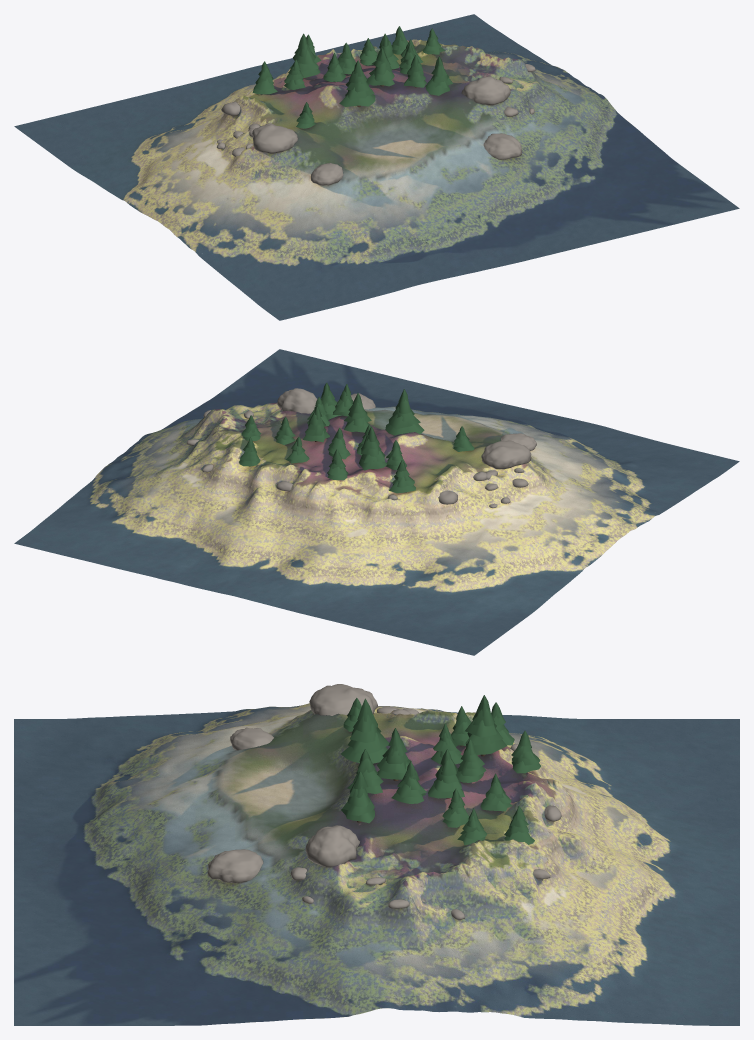
Rendered from island_land.glb.
3 views of the same model, one above another, from view 1: azimuth 30°, elevation 25°; view 2: azimuth 150°, elevation 25°; view 3: azimuth 270°, elevation 25° (orthographic). The views are drawn at different scales.
Parts seen in each view (by area): view 1: Land, TreeFoliage, Boulders; view 2: Land, TreeFoliage, Boulders; view 3: Land, TreeFoliage, Boulders.
Boxes of the visible parts, box(x1,y1,x2,y2) form: Land: box(14, 14, 739, 320); TreeFoliage: box(252, 26, 452, 128); Boulders: box(216, 52, 535, 185); Land: box(14, 349, 739, 655); TreeFoliage: box(239, 382, 474, 493); Boulders: box(186, 388, 536, 507); Land: box(14, 703, 739, 1025); TreeFoliage: box(341, 695, 541, 845); Boulders: box(207, 684, 561, 919).
Bounding box in the file's own units: 56 × 13.47 × 56.
23 materials, 1 textured.
